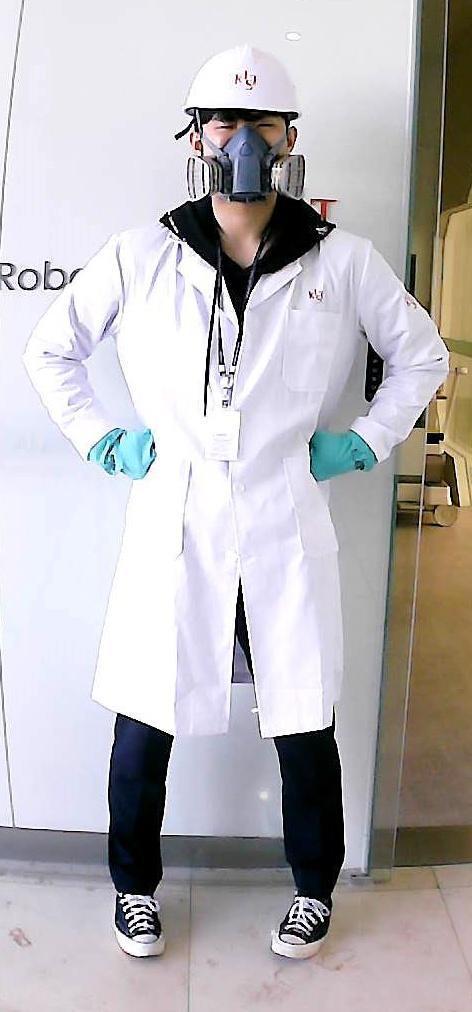lab_coat: (120, 226, 330, 709)
